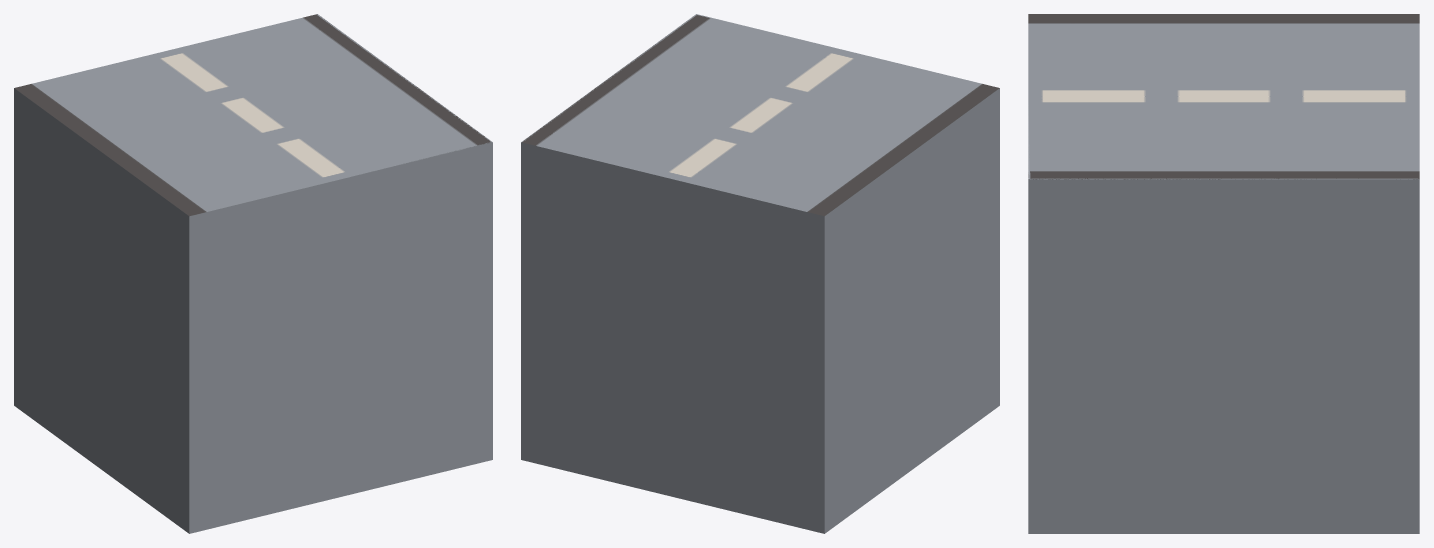
The model's file is trap.fbx.
The picture shows the model from 3 angles, left to right: view 1: azimuth 30°, elevation 25°; view 2: azimuth 150°, elevation 25°; view 3: azimuth 270°, elevation 25°; orthographic projection. The views are drawn at different scales.
Parts seen in each view (by area): view 1: trap, valve2, valve1; view 2: trap, valve2, valve1; view 3: trap, valve2, valve1.
Part boxes in pixels (x1,y1,x2,y2): trap: (14, 14, 492, 533); valve2: (14, 51, 340, 216); valve1: (166, 14, 490, 179); trap: (521, 14, 999, 533); valve2: (673, 51, 999, 216); valve1: (522, 15, 847, 179); trap: (1028, 105, 1419, 533); valve2: (1028, 14, 1419, 96); valve1: (1028, 96, 1419, 179).
Bounding box in the file's own units: 2 × 2 × 2.
